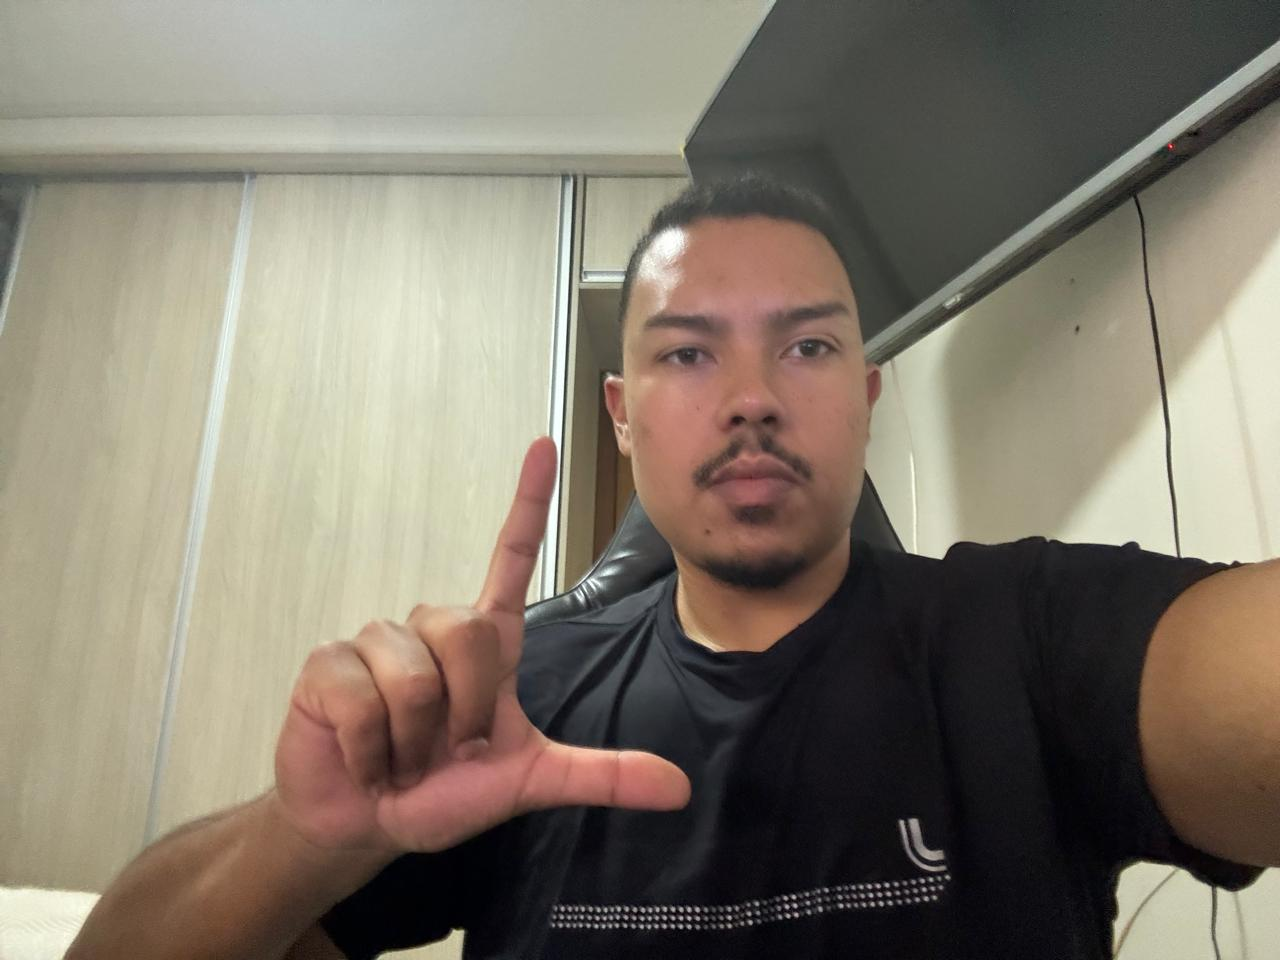l: (264, 431, 693, 873)
